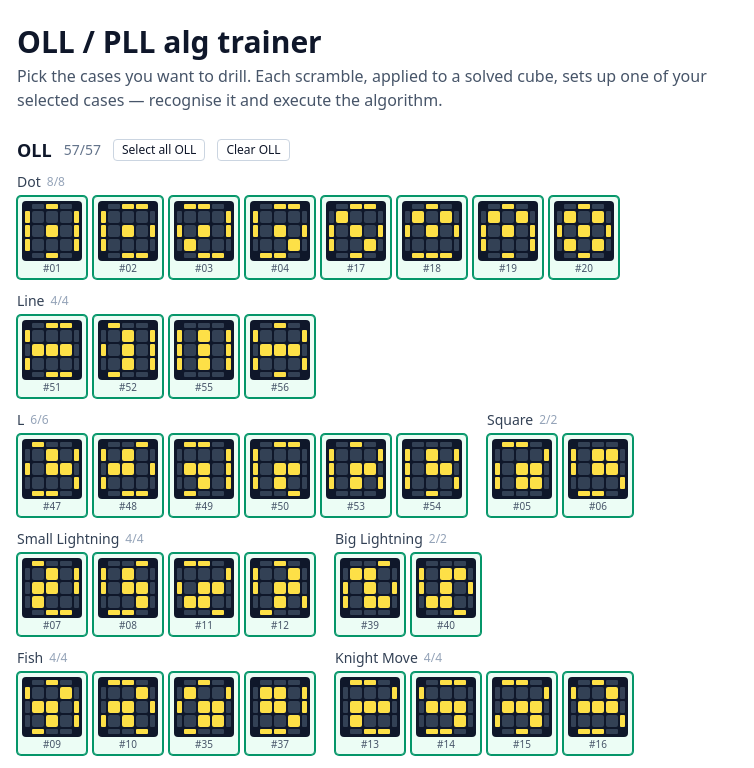
Test case: TrainerAlgSet › prompts and shows no scramble when nothing is selected
Step 1. Click the button "Clear OLL" → (254, 150), box [217,139,290,161]
(page scrolled)
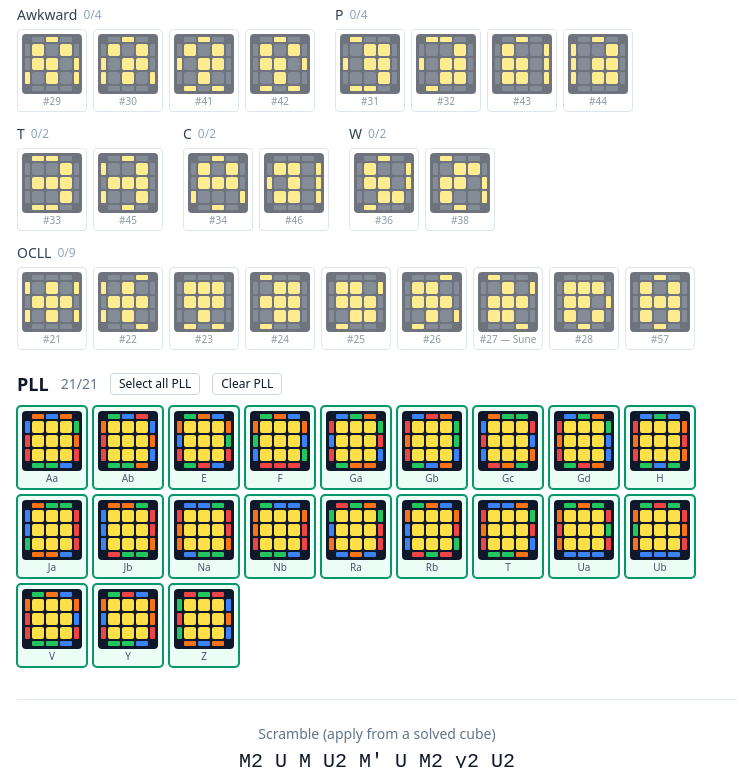
Step 2. Click the button "Clear PLL" → (247, 384), box [212,373,282,395]
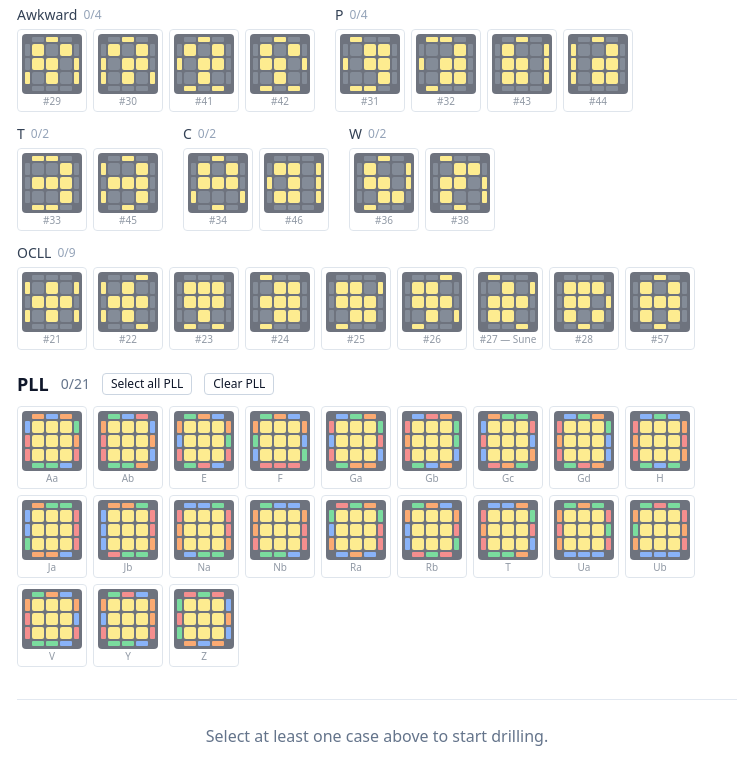
Check: the text "Select at least one case above to start drilling." is shown, box [206,725,548,747]
